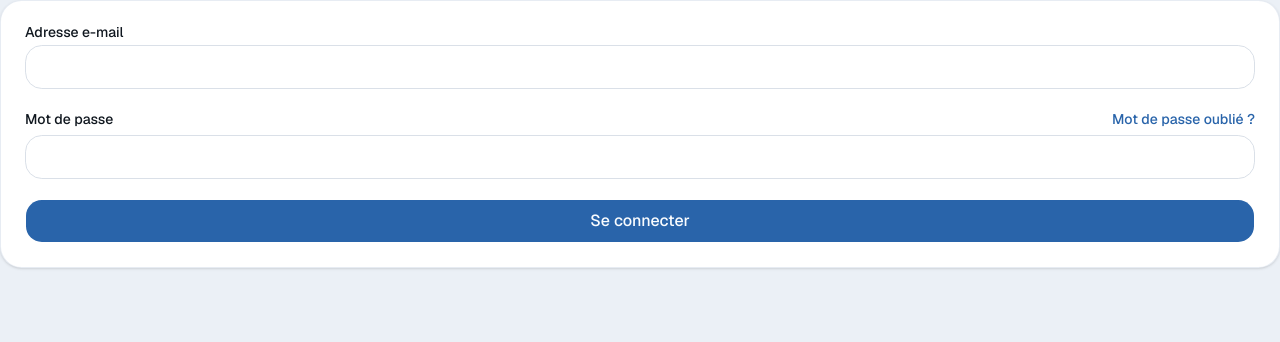
Scenario: LoginForm › keeps the typed address, but not the password, after a failed attempt, without any React warning
This screenshot has width=1280, height=342.
Type "martine@bessan.fr" into the field labelled "Adresse e-mail" at point(640, 67), box [25,45,1255,89]
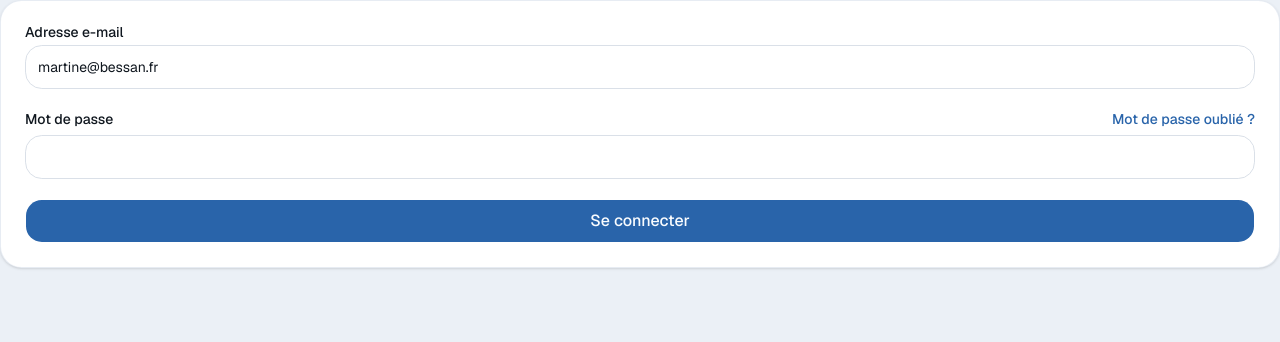
Type "MauvaisMotDePasse" into the password field labelled "Mot de passe" at point(640, 157), box [25,135,1255,179]
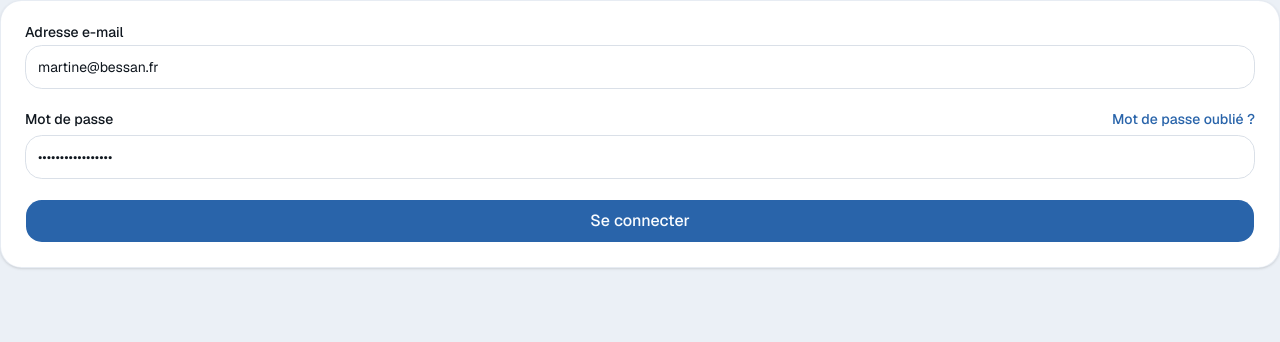
Click the button "Se connecter" at point(640, 221), box [25,199,1255,243]
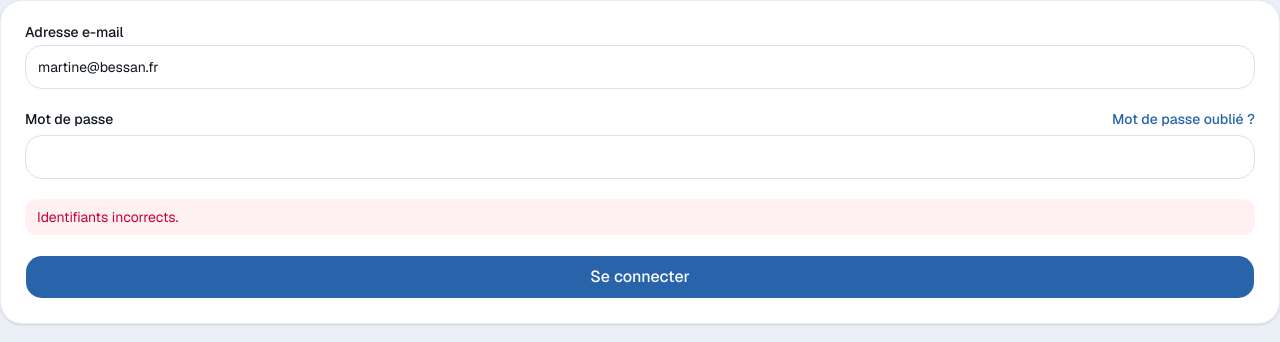
Expected: the message reads "Identifiants incorrects.", [37,208,178,226]
Expected: the password field labelled "Mot de passe" is empty, [25,135,1255,179]
